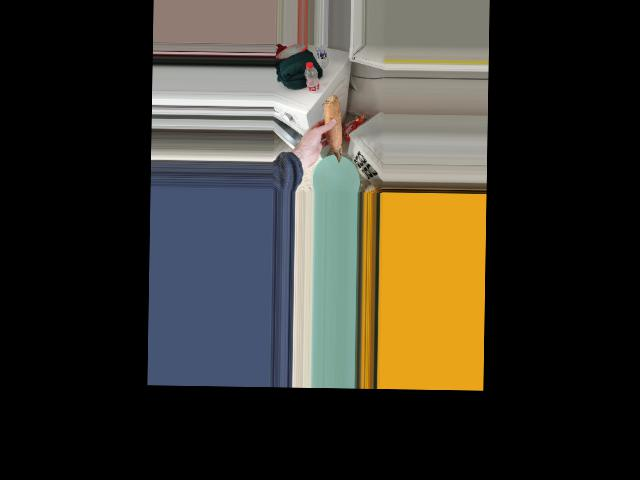sweet_potato: (322, 97, 348, 162)
